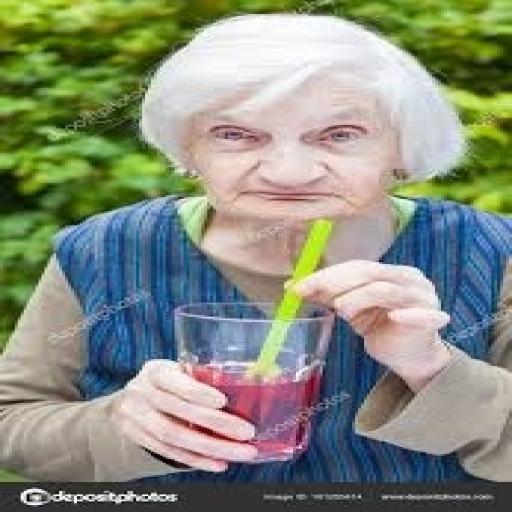drinking: (169, 299, 337, 465)
